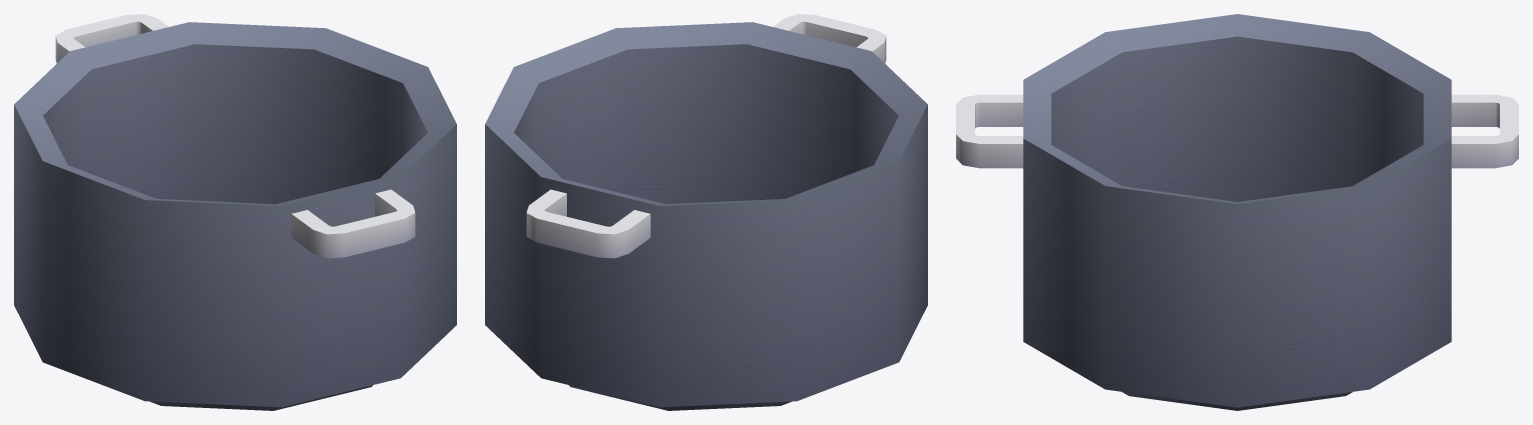
The model's file is cooking_pot.glb.
3 renders of one model, left to right at view 1: azimuth 30°, elevation 25°; view 2: azimuth 150°, elevation 25°; view 3: azimuth 270°, elevation 25°, orthographic.
Parts seen in each view (by area): view 1: pot; view 2: pot; view 3: pot.
Boxes of the visible parts, left/top/right/bottom form: pot: left=14, top=14, right=456, bottom=410; pot: left=485, top=14, right=927, bottom=410; pot: left=956, top=14, right=1518, bottom=410.
Bounding box in the file's own units: 0.6575 × 0.3608 × 0.8221.
Materials: 1 (1 with a texture image).
